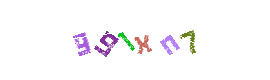7: (150, 0, 230, 80)
9: (79, 0, 159, 80)
G: (66, 0, 146, 80)
L: (86, 0, 166, 80)
N: (110, 0, 190, 80)
X: (95, 0, 175, 80)
